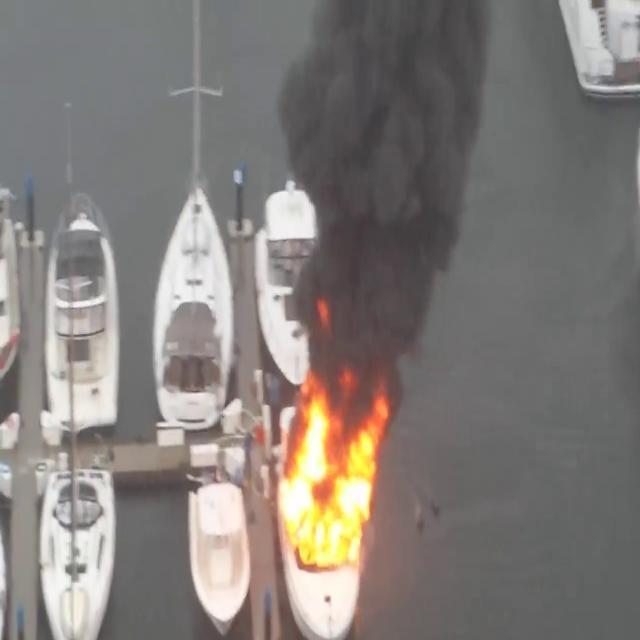Fire: (278, 377, 389, 566)
Smoke: (272, 0, 499, 382)
